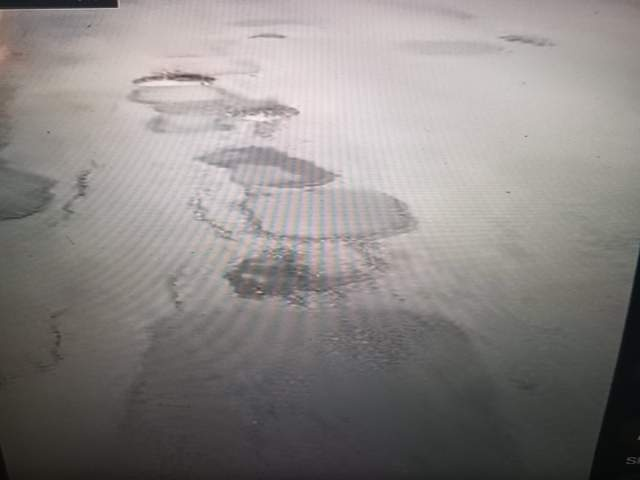pothole: (118, 403, 347, 480)
